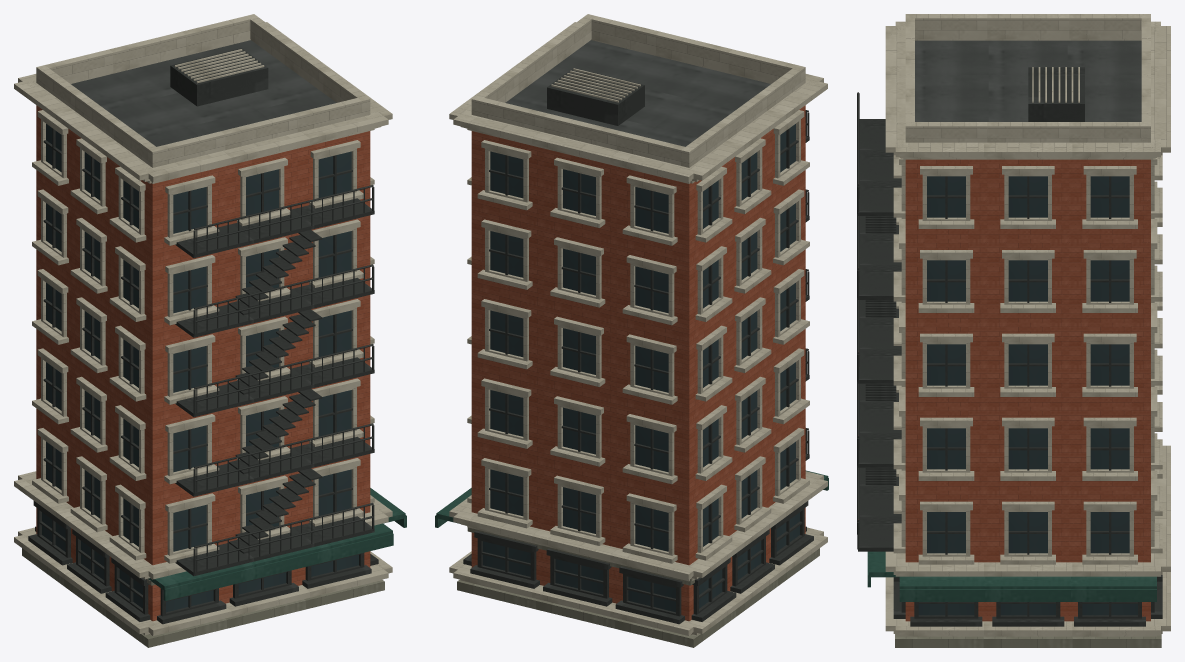
File: city-tenement.glb
3 views of the same model, side by side, from view 1: azimuth 30°, elevation 25°; view 2: azimuth 150°, elevation 25°; view 3: azimuth 270°, elevation 25° (orthographic). The views are drawn at different scales.
Visible parts, largest first — view 1: city-tenement.001; view 2: city-tenement.001; view 3: city-tenement.001.
Boxes of the visible parts, box(x1,y1,x2,y2) form: city-tenement.001: box(14, 14, 406, 647); city-tenement.001: box(435, 14, 828, 647); city-tenement.001: box(857, 14, 1170, 647).
Size of the model in its own units: 8 by 13.94 by 7.65.
Materials: 1 (1 with a texture image).
